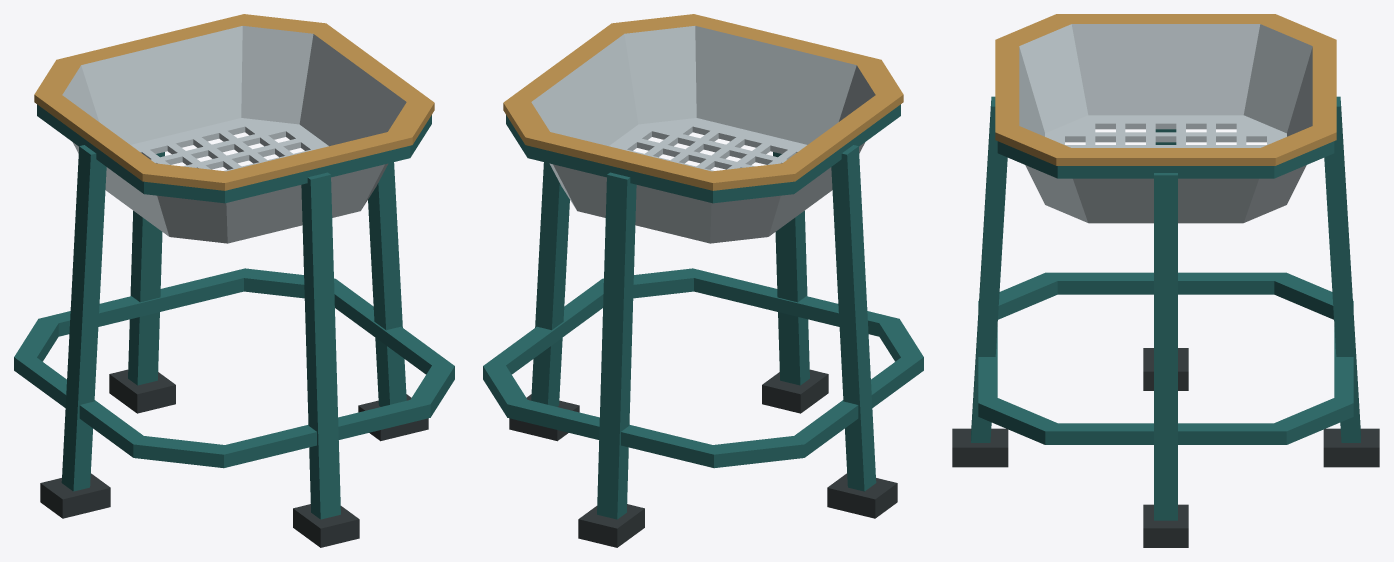
3 views of the same model, side by side, from view 1: azimuth 30°, elevation 25°; view 2: azimuth 150°, elevation 25°; view 3: azimuth 270°, elevation 25° (orthographic).
Visible parts, largest first — view 1: Sieve_IntegralPerforatedBowl, Stand_LowerOpenBraceRing, Stand_SplayedLeg_South, Stand_SplayedLeg_West, Stand_SplayedLeg_East, Stand_ShoulderSeatRing, Stand_SplayedLeg_North, Stand_FlatFoot_West, Stand_FlatFoot_South, Stand_FlatFoot_North, Stand_FlatFoot_East; view 2: Sieve_IntegralPerforatedBowl, Stand_LowerOpenBraceRing, Stand_SplayedLeg_North, Stand_SplayedLeg_West, Stand_SplayedLeg_East, Stand_ShoulderSeatRing, Stand_SplayedLeg_South, Stand_FlatFoot_West, Stand_FlatFoot_North, Stand_FlatFoot_South, Stand_FlatFoot_East; view 3: Sieve_IntegralPerforatedBowl, Stand_LowerOpenBraceRing, Stand_SplayedLeg_East, Stand_SplayedLeg_North, Stand_SplayedLeg_South, Stand_ShoulderSeatRing, Stand_FlatFoot_North, Stand_FlatFoot_South, Stand_FlatFoot_East, Stand_FlatFoot_West.
Boxes of the visible parts, x1=… form: Sieve_IntegralPerforatedBowl: x1=34, y1=14, x2=434, y2=243; Stand_LowerOpenBraceRing: x1=14, y1=268, x2=454, y2=468; Stand_SplayedLeg_South: x1=301, y1=172, x2=340, y2=519; Stand_SplayedLeg_West: x1=61, y1=145, x2=106, y2=491; Stand_SplayedLeg_East: x1=368, y1=162, x2=406, y2=406; Stand_ShoulderSeatRing: x1=37, y1=104, x2=431, y2=203; Stand_SplayedLeg_North: x1=128, y1=152, x2=164, y2=385; Stand_FlatFoot_West: x1=40, y1=473, x2=110, y2=518; Stand_FlatFoot_South: x1=293, y1=504, x2=359, y2=547; Stand_FlatFoot_North: x1=109, y1=369, x2=175, y2=413; Stand_FlatFoot_East: x1=358, y1=394, x2=428, y2=441; Sieve_IntegralPerforatedBowl: x1=503, y1=14, x2=903, y2=243; Stand_LowerOpenBraceRing: x1=483, y1=268, x2=923, y2=468; Stand_SplayedLeg_North: x1=597, y1=172, x2=636, y2=519; Stand_SplayedLeg_West: x1=831, y1=145, x2=876, y2=491; Stand_SplayedLeg_East: x1=531, y1=162, x2=569, y2=406; Stand_ShoulderSeatRing: x1=506, y1=104, x2=900, y2=203; Stand_SplayedLeg_South: x1=773, y1=152, x2=809, y2=385; Stand_FlatFoot_West: x1=827, y1=473, x2=897, y2=518; Stand_FlatFoot_North: x1=578, y1=504, x2=644, y2=547; Stand_FlatFoot_South: x1=762, y1=369, x2=828, y2=413; Stand_FlatFoot_East: x1=509, y1=394, x2=579, y2=441; Sieve_IntegralPerforatedBowl: x1=995, y1=14, x2=1336, y2=223; Stand_LowerOpenBraceRing: x1=978, y1=272, x2=1353, y2=444; Stand_SplayedLeg_East: x1=1154, y1=173, x2=1177, y2=520; Stand_SplayedLeg_North: x1=1324, y1=96, x2=1360, y2=442; Stand_SplayedLeg_South: x1=971, y1=96, x2=1007, y2=442; Stand_ShoulderSeatRing: x1=997, y1=141, x2=1334, y2=178; Stand_FlatFoot_North: x1=1323, y1=428, x2=1379, y2=467; Stand_FlatFoot_South: x1=952, y1=428, x2=1008, y2=467; Stand_FlatFoot_East: x1=1143, y1=504, x2=1188, y2=547; Stand_FlatFoot_West: x1=1143, y1=348, x2=1188, y2=390.
Size of the model in its own units: 0.99 by 0.95 by 0.99.
